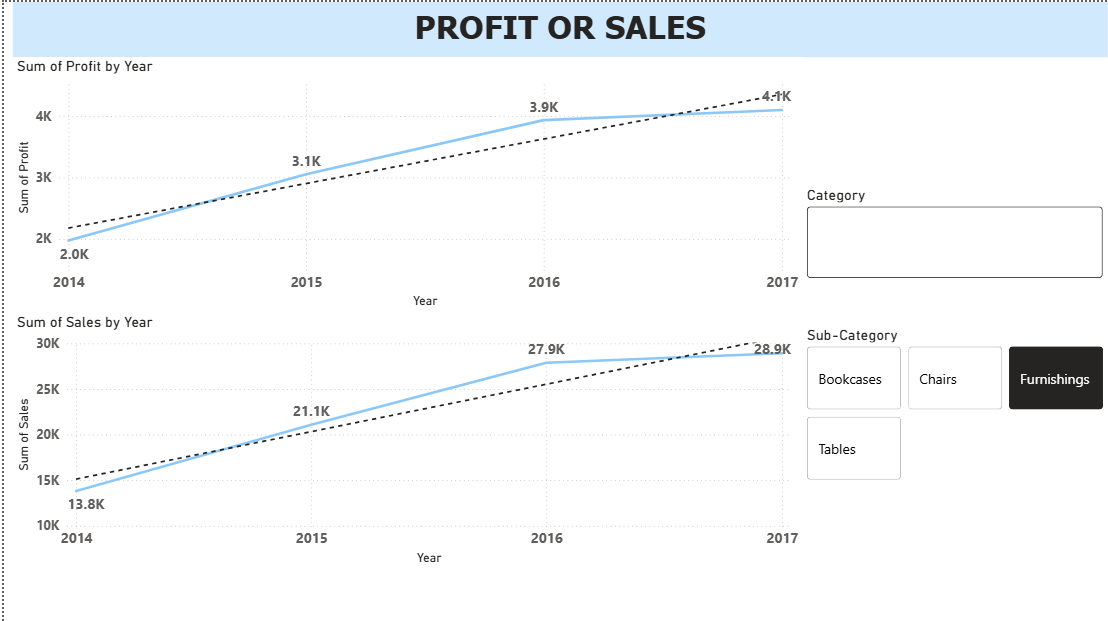

The dashboard page shown, as its layout file describes it:
{"tool":"powerbi","page":{"name":"PROFIT OR SALES ","canvas":[1280,720],"ordinal":3},"visuals":[{"type":"textbox","box":[10.7,0,1269.6,64.3],"z":0},{"type":"lineChart","fields":{"Category":["Orders.Order Date.Variation.Date Hierarchy.Year"],"Y":["Sum(Orders.Profit)"]},"box":[10.7,64.3,916.1,296.4],"z":1000},{"type":"lineChart","fields":{"Category":["Orders.Order Date.Variation.Date Hierarchy.Year"],"Y":["Sum(Orders.Sales)"]},"box":[10.7,360.7,916.1,296.4],"z":2000},{"type":"advancedSlicerVisual","fields":{"Values":["product.Category"]},"box":[926.8,212.5,353.6,112.5],"z":3000},{"type":"advancedSlicerVisual","fields":{"Values":["product.Sub-Category"]},"box":[926.8,375,353.6,183.9],"z":4000}]}

Visuals, with their boxes in screenshot pixels (x1, y1, x2, y2), scaled from the page's 1280x720 canvas onto the 1108x621 screenshot:
textbox: BBox(9, 0, 1107, 55)
lineChart - Orders.Order Date.Variation.Date Hierarchy.Year x Sum(Orders.Profit): BBox(9, 55, 802, 311)
lineChart - Orders.Order Date.Variation.Date Hierarchy.Year x Sum(Orders.Sales): BBox(9, 311, 802, 567)
advancedSlicerVisual - product.Category: BBox(802, 183, 1107, 280)
advancedSlicerVisual - product.Sub-Category: BBox(802, 323, 1107, 482)
